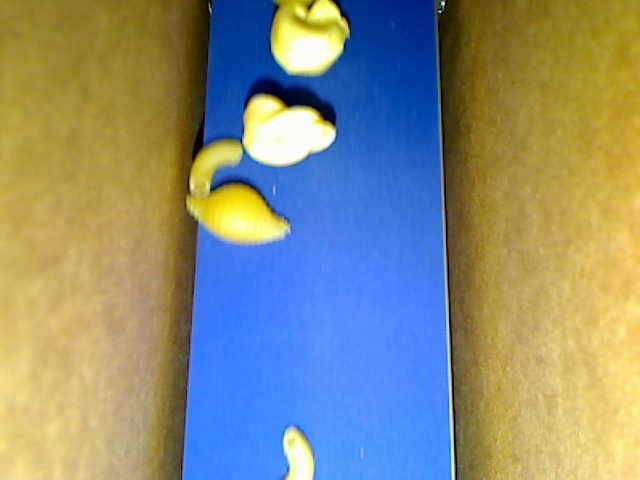elbow: (189, 138, 243, 198), (281, 424, 314, 479)
shell: (185, 182, 290, 245)
tortellini: (240, 94, 336, 166), (270, 1, 349, 76)
